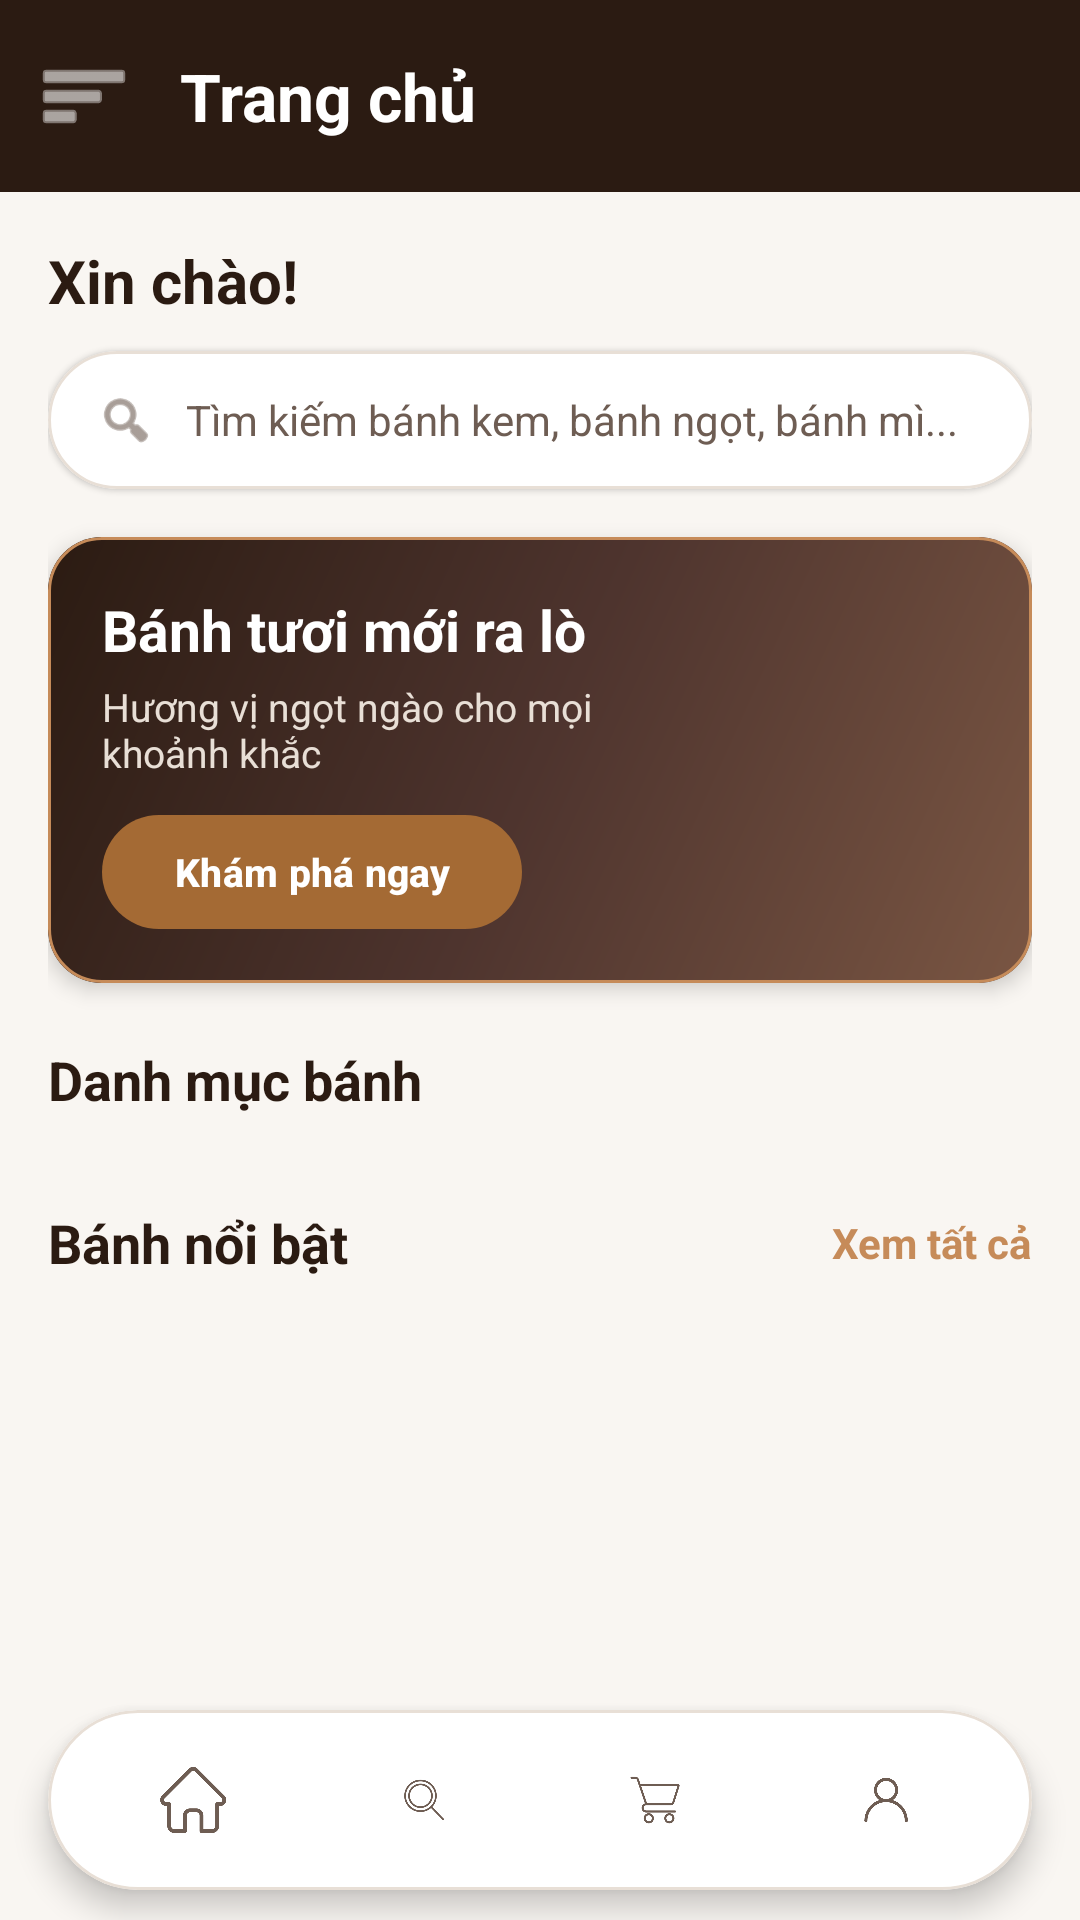

Screen size 1080px x 1920px. Icon name, then its center in pixels as point (x, y):
account: point (886, 1800)
cart: point (655, 1800)
home: point (193, 1800)
search: point (126, 420)
